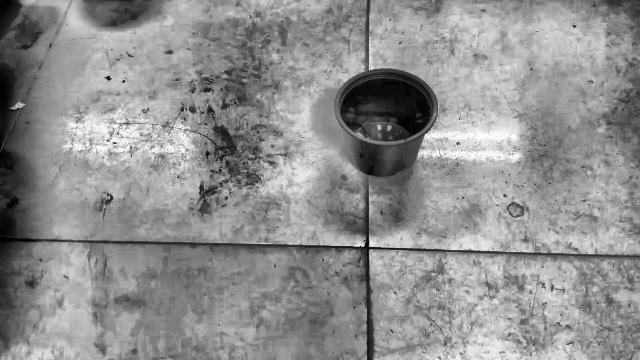pot: (334, 69, 437, 177)
